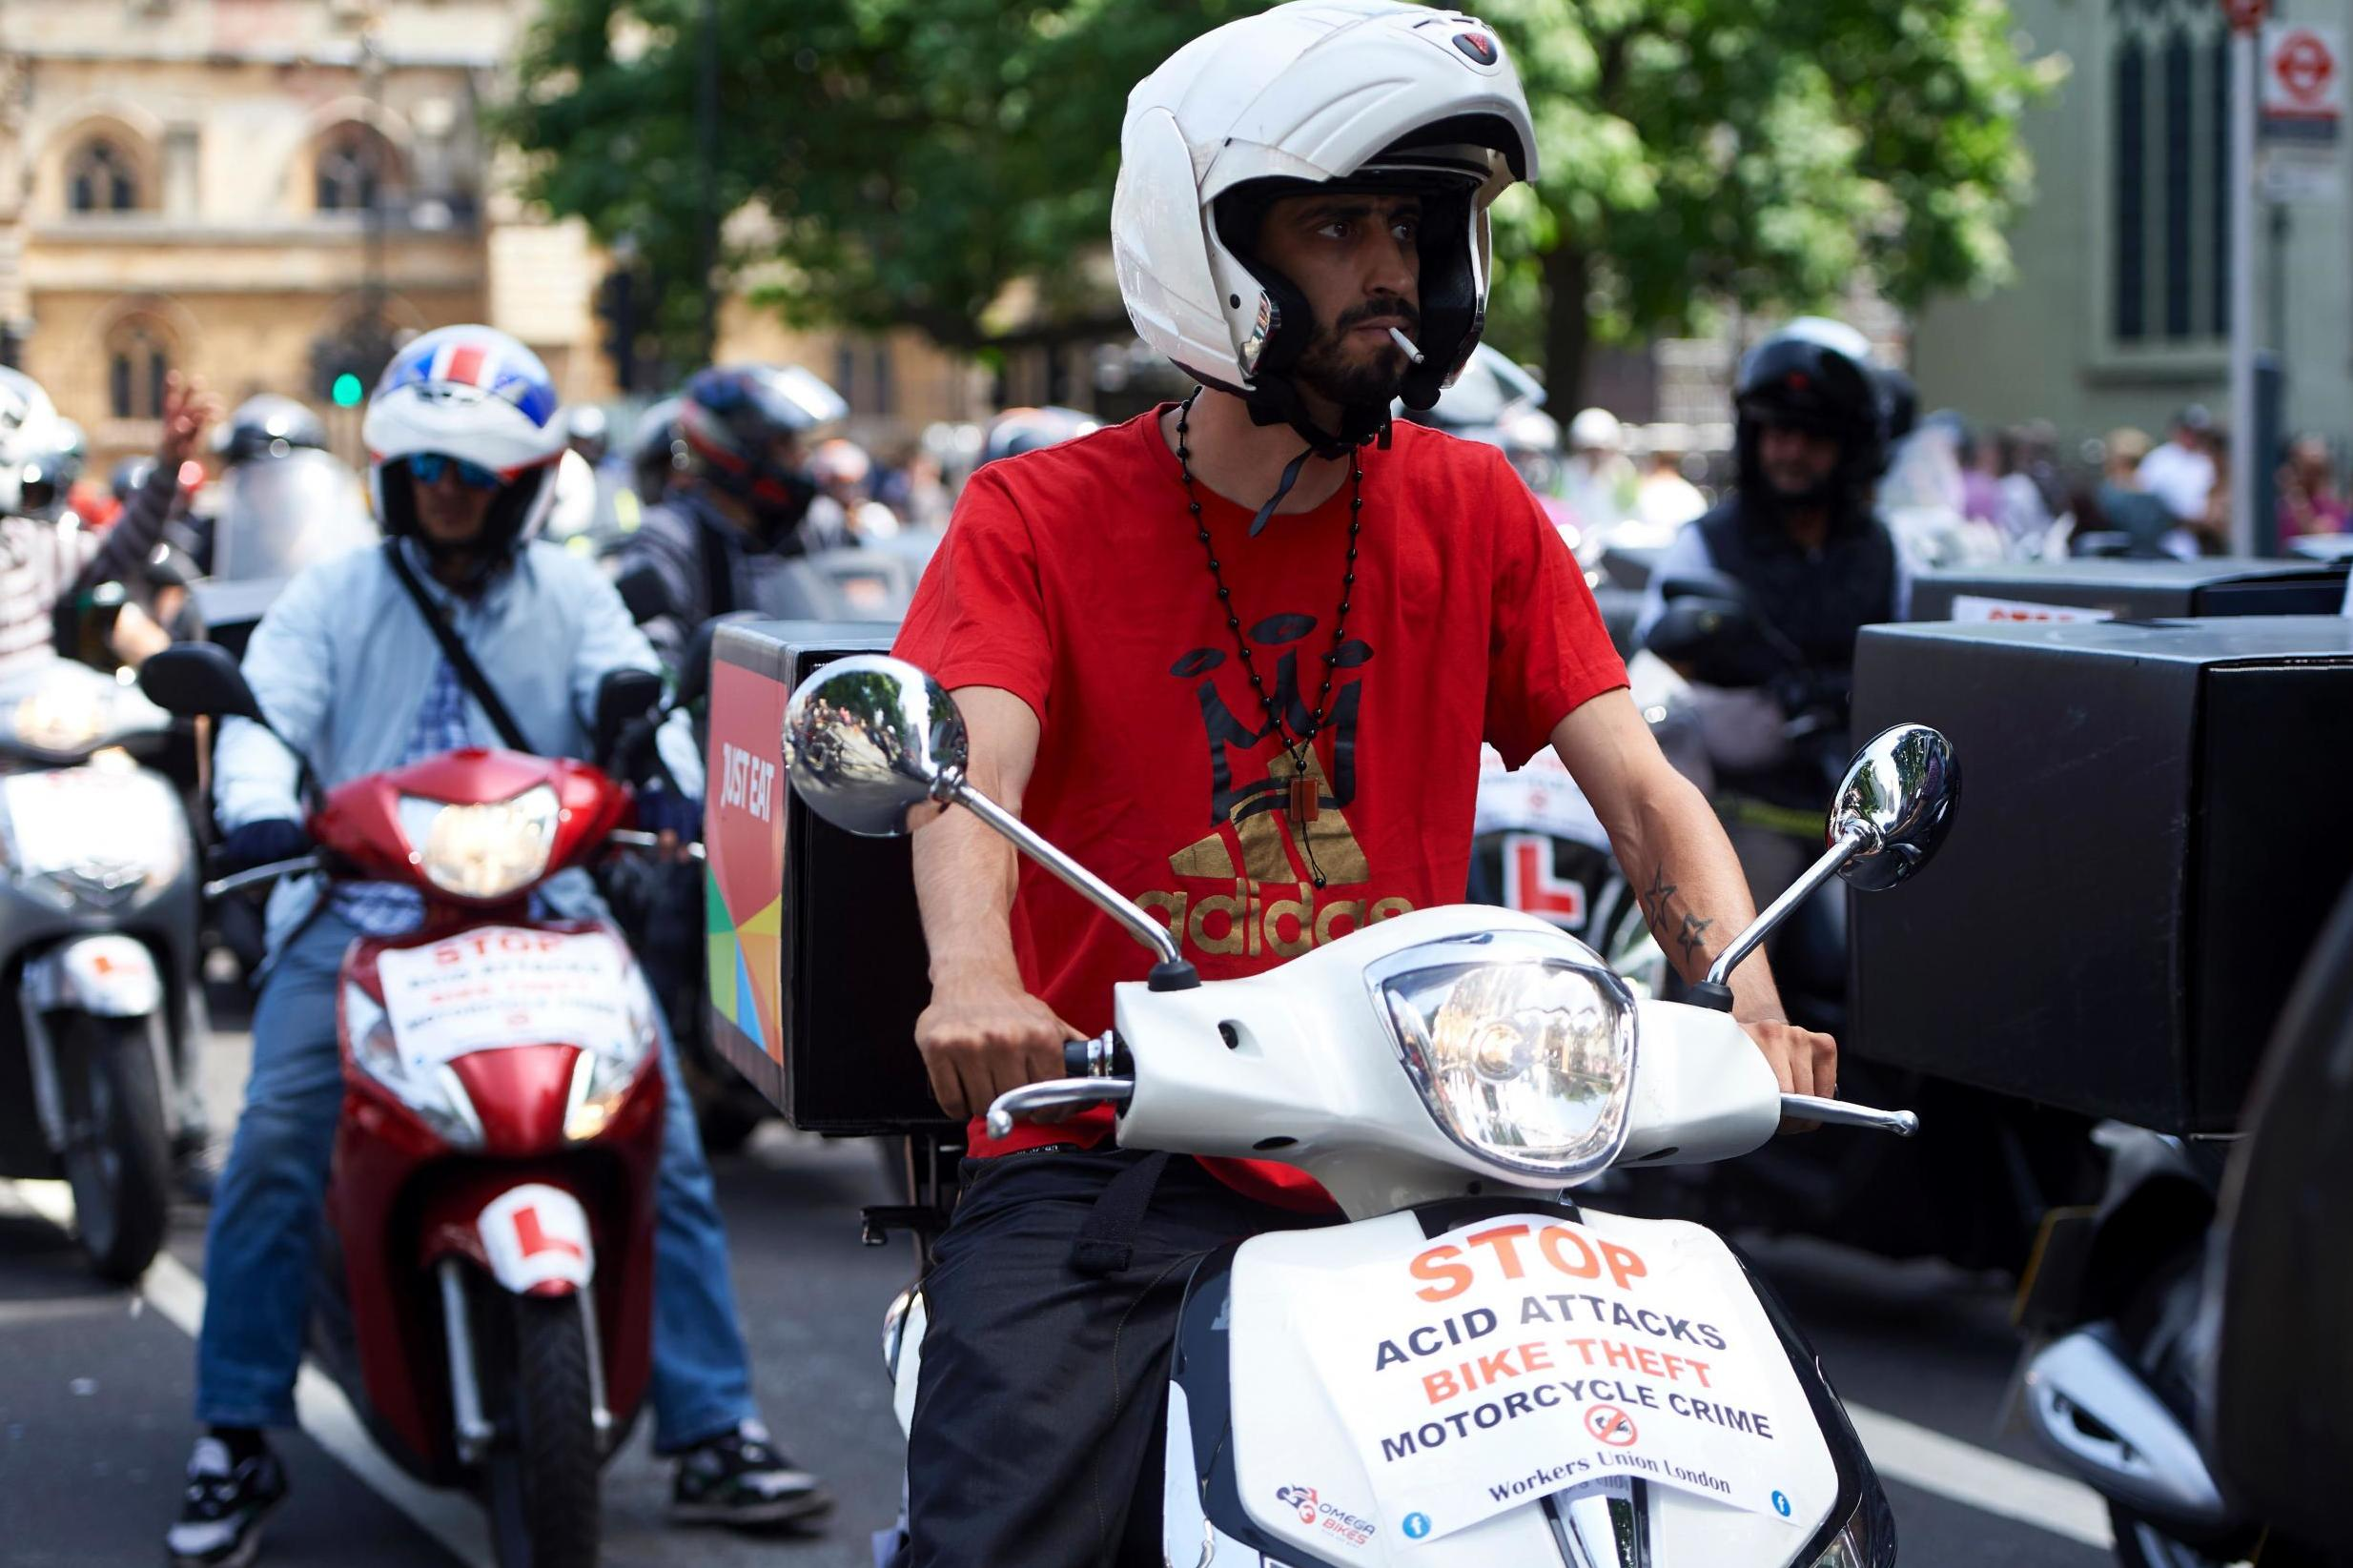helmet: (967, 2, 1746, 983)
